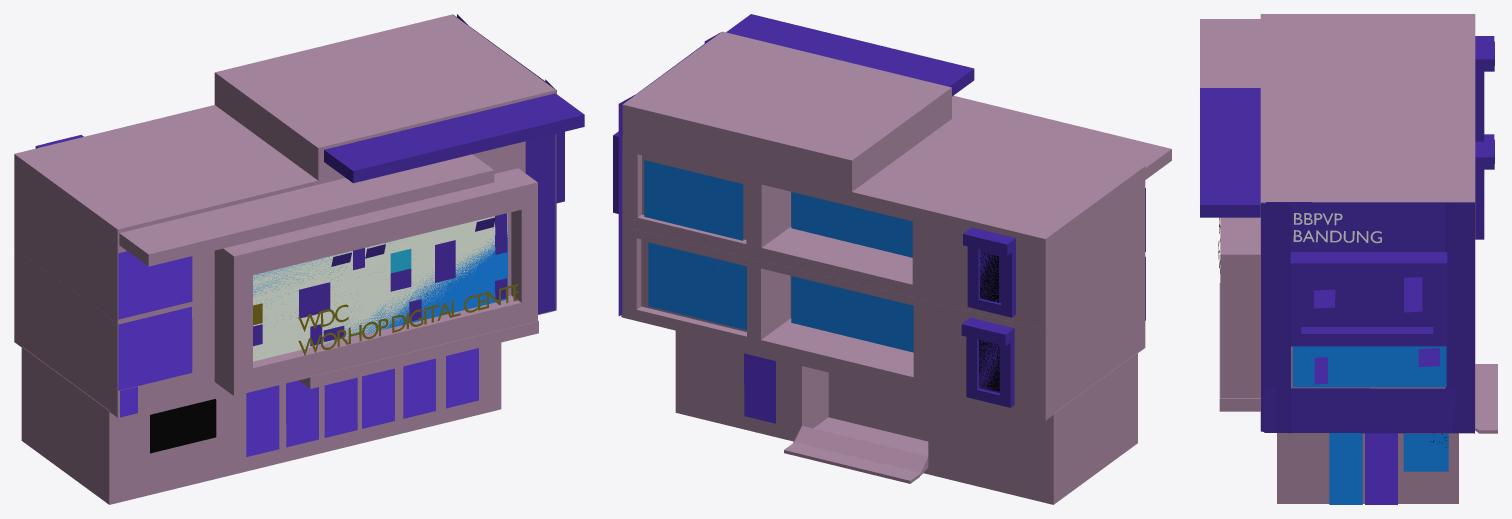
The model's file is gedung wdc  - Copy (7).fbx.
3 renders of one model, left to right at view 1: azimuth 30°, elevation 25°; view 2: azimuth 150°, elevation 25°; view 3: azimuth 270°, elevation 25°, orthographic. The views are drawn at different scales.
Visible parts, largest first — view 1: Cube.262, Cube.263, Cube.019, Cube.143, Cube.013, Cube.024, Cube.144, Cube.267, Cube.018, Cube.135, Cube.261, Cube.026 (+18 smaller); view 2: Cube.262, Cube.019, Cube.261, Cube.013, Cube.143, Cube.018, Cube.101, Cube.267, Cube.182, Cube.228, Cube.144, Cube.226 (+10 smaller); view 3: Cube.013, Cube.262, Cube.021, Cube.143, Cube.019, Cube.046, Cube.267, Cube.233, Cube.263, Cube.043, Cube.231, Cube.105 (+20 smaller).
Part boxes in pixels (x1=…): Cube.262: x1=14, y1=105, x2=556, y2=323; Cube.263: x1=214, y1=168, x2=537, y2=395; Cube.019: x1=21, y1=342, x2=501, y2=504; Cube.143: x1=229, y1=15, x2=554, y2=147; Cube.013: x1=215, y1=14, x2=555, y2=180; Cube.024: x1=253, y1=213, x2=507, y2=361; Cube.144: x1=119, y1=154, x2=494, y2=266; Cube.267: x1=324, y1=93, x2=584, y2=183; Cube.018: x1=14, y1=248, x2=117, y2=417; Cube.135: x1=119, y1=171, x2=491, y2=266; Cube.261: x1=20, y1=217, x2=556, y2=417; Cube.026: x1=118, y1=306, x2=192, y2=389; Cube.262: x1=622, y1=119, x2=1145, y2=329; Cube.019: x1=675, y1=330, x2=1137, y2=504; Cube.261: x1=622, y1=227, x2=1115, y2=420; Cube.013: x1=624, y1=31, x2=951, y2=191; Cube.143: x1=622, y1=32, x2=923, y2=192; Cube.018: x1=637, y1=257, x2=1145, y2=410; Cube.101: x1=648, y1=242, x2=746, y2=330; Cube.267: x1=726, y1=14, x2=974, y2=96; Cube.182: x1=791, y1=276, x2=913, y2=352; Cube.228: x1=644, y1=160, x2=743, y2=240; Cube.144: x1=952, y1=95, x2=1171, y2=167; Cube.226: x1=791, y1=192, x2=912, y2=257; Cube.013: x1=1260, y1=81, x2=1475, y2=235; Cube.262: x1=1260, y1=14, x2=1475, y2=333; Cube.021: x1=1290, y1=252, x2=1447, y2=346; Cube.143: x1=1260, y1=81, x2=1475, y2=217; Cube.019: x1=1277, y1=364, x2=1497, y2=503; Cube.046: x1=1264, y1=388, x2=1467, y2=433; Cube.267: x1=1200, y1=88, x2=1260, y2=217; Cube.233: x1=1266, y1=202, x2=1474, y2=251; Cube.263: x1=1220, y1=217, x2=1260, y2=398; Cube.043: x1=1261, y1=203, x2=1290, y2=433; Cube.231: x1=1292, y1=346, x2=1446, y2=387; Cube.105: x1=1445, y1=203, x2=1474, y2=433.
Bounding box in the file's own units: 609 × 396 × 327.
